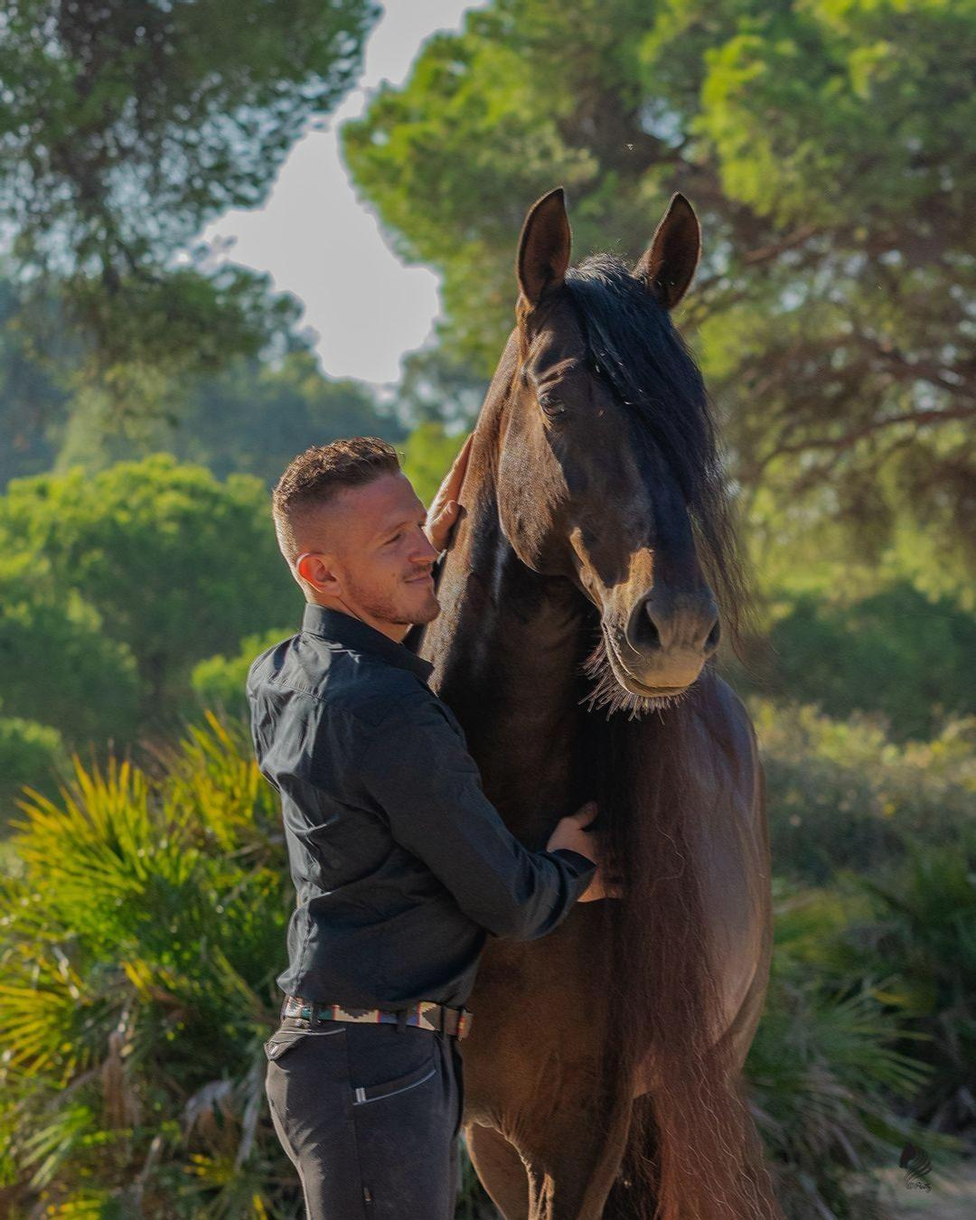horse: (408, 184, 779, 1218)
